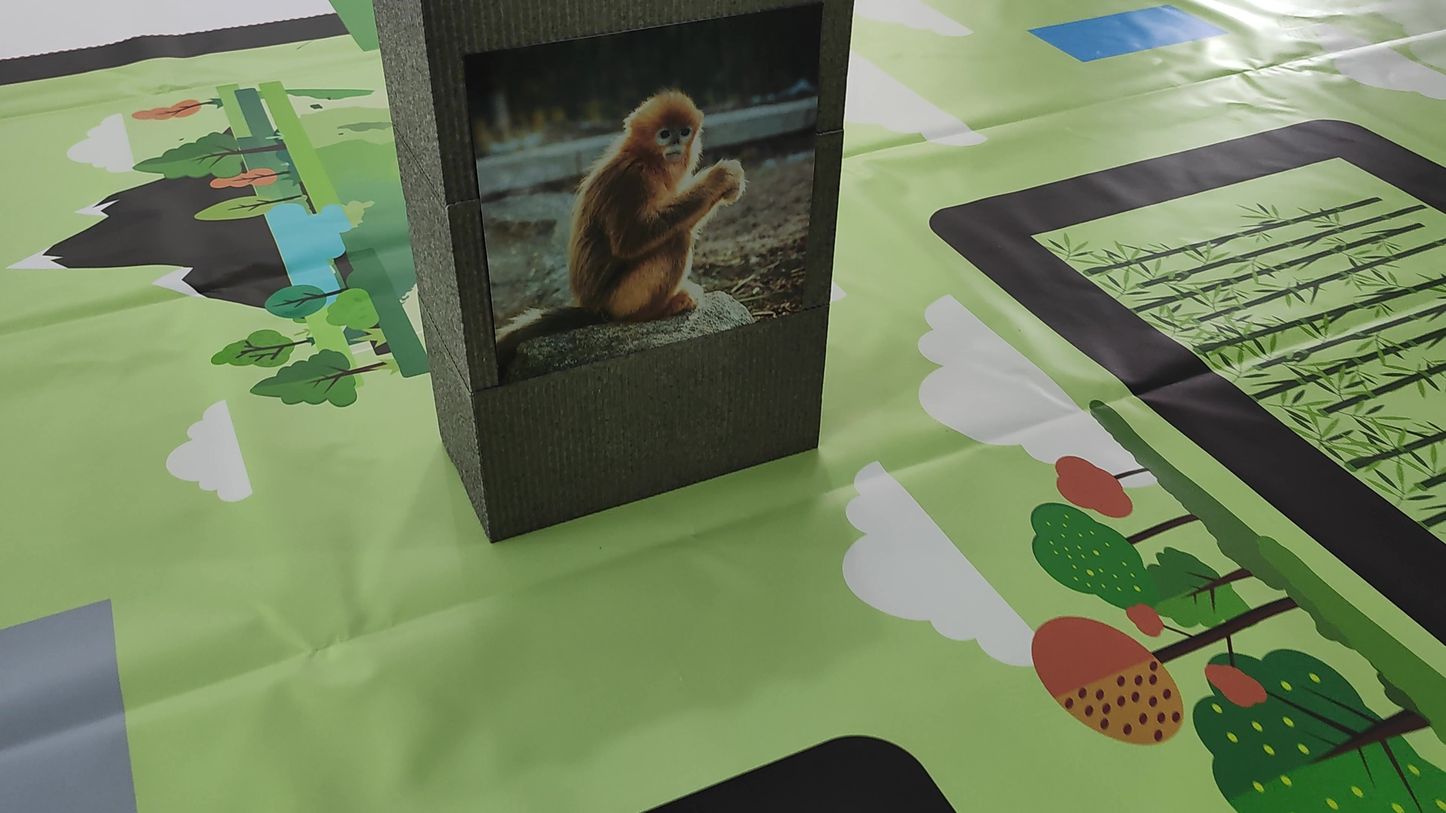monkey: (477, 74, 760, 350)
